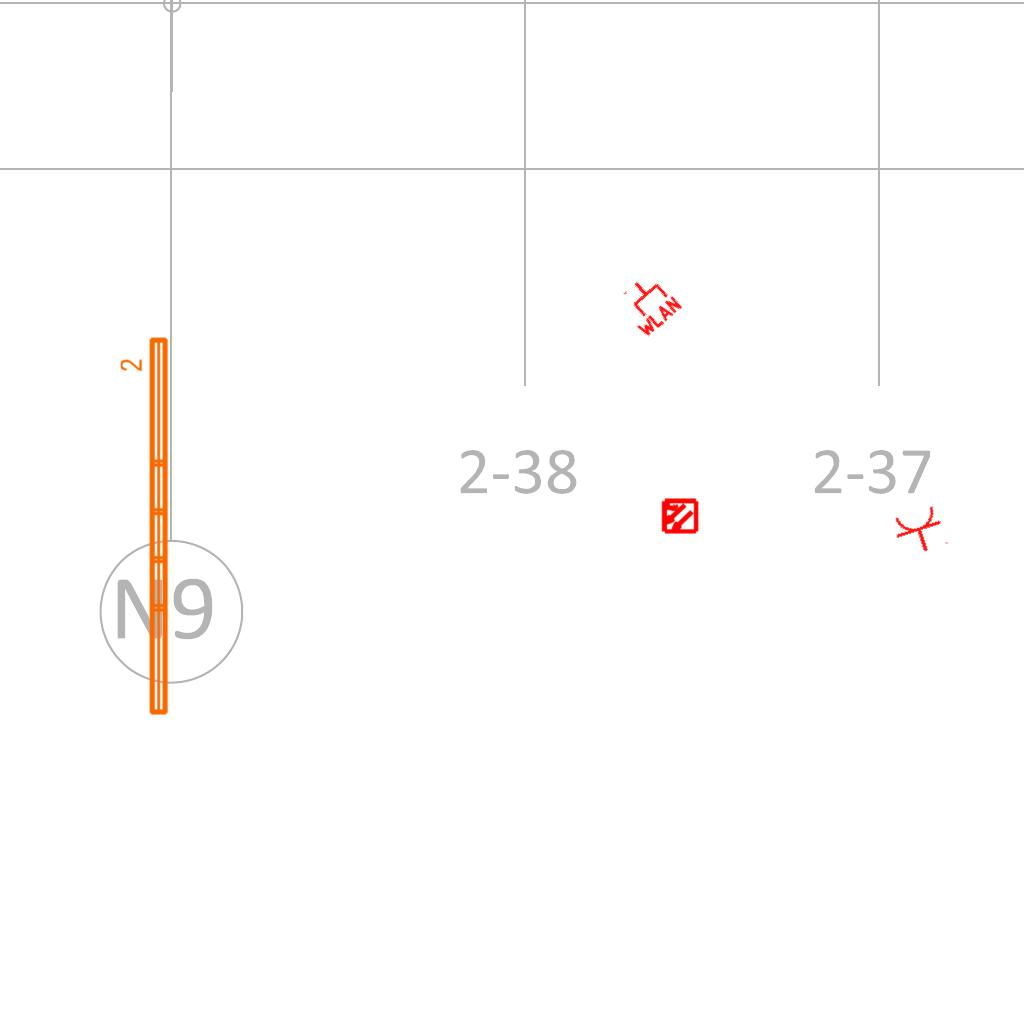Ambulanz_Pendelleuchte_LED: (118, 333, 174, 720)
OT_Multisensormelder_(Kombination_RMO_WMD): (651, 488, 707, 544)
Schukosteckdose_einfach: (890, 502, 951, 560)
WLAN: (611, 267, 685, 341)
